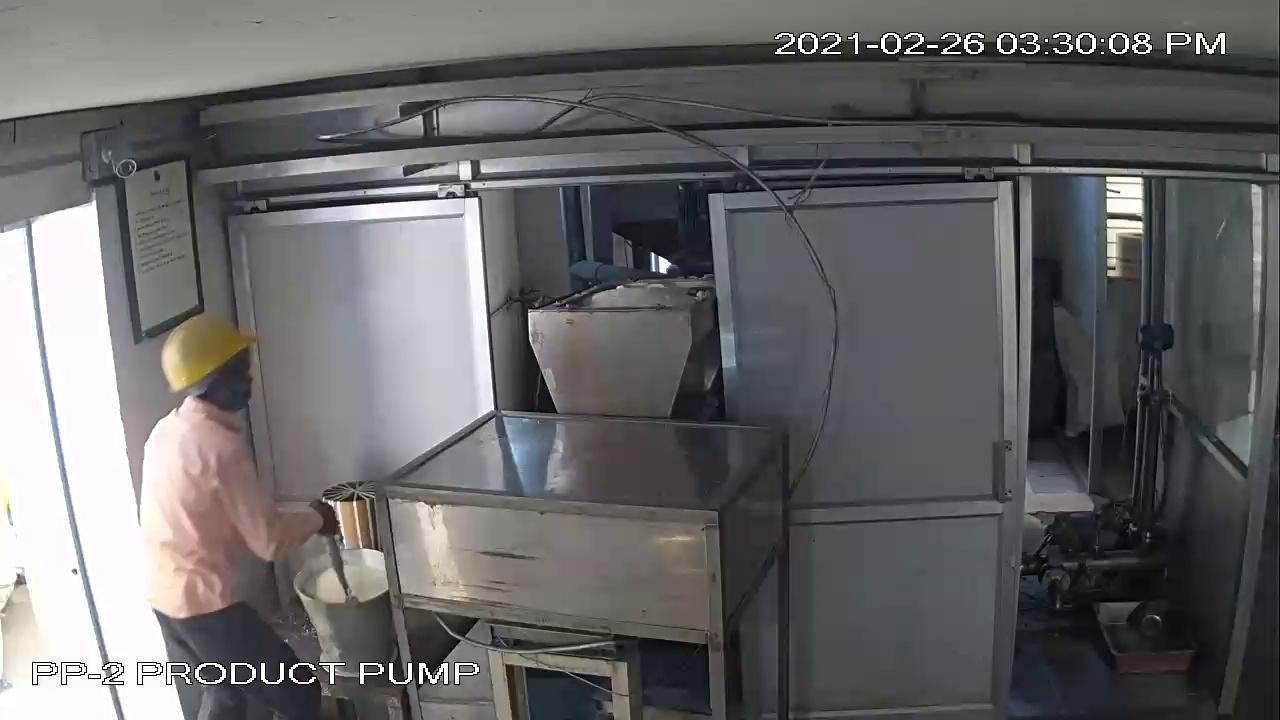helmet: (147, 304, 273, 419)
